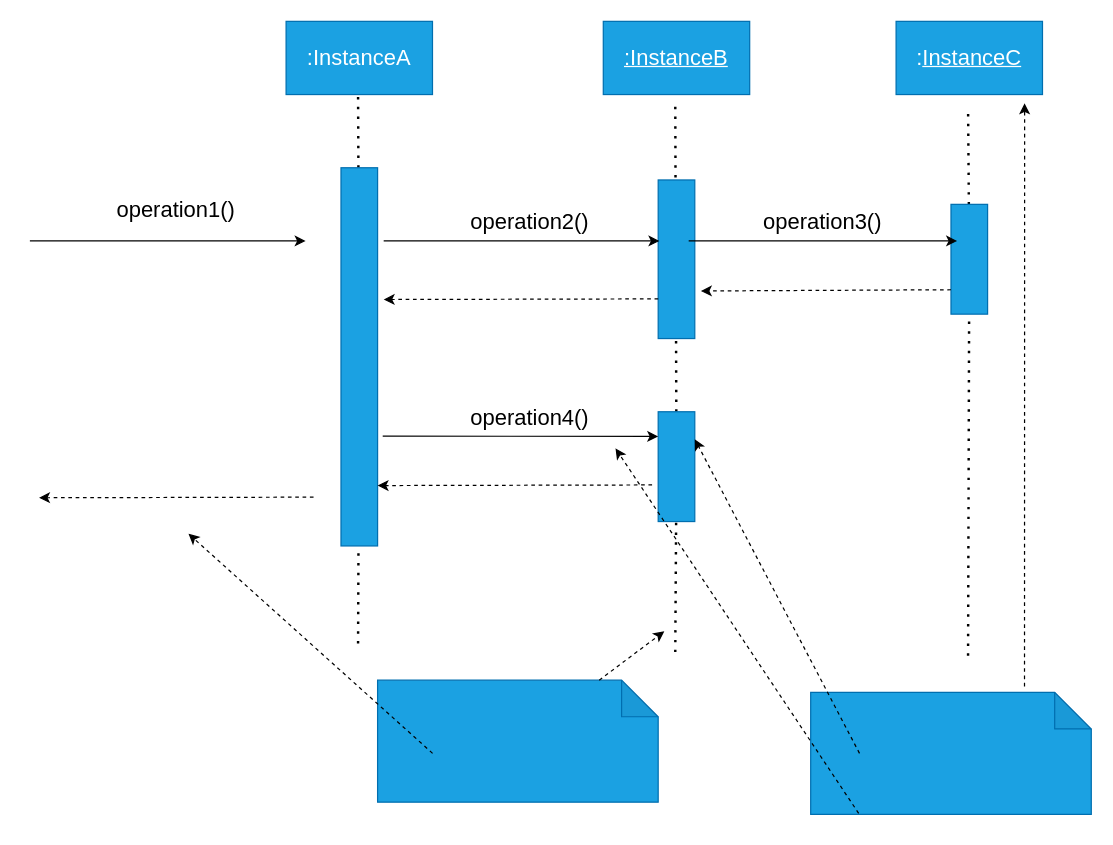
This 1113x845 diagram has some shape labels left out. The centre of each missing label's shape, as x and y in pixels:
"回復物件 訊息生命線" goes at point (517, 740).
"程式中被建立的物件 執行規格長條格 訊息呼叫（操作）" goes at point (950, 752).
